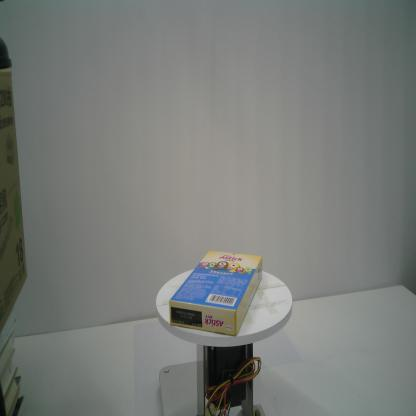Dessert: (169, 249, 263, 337)
